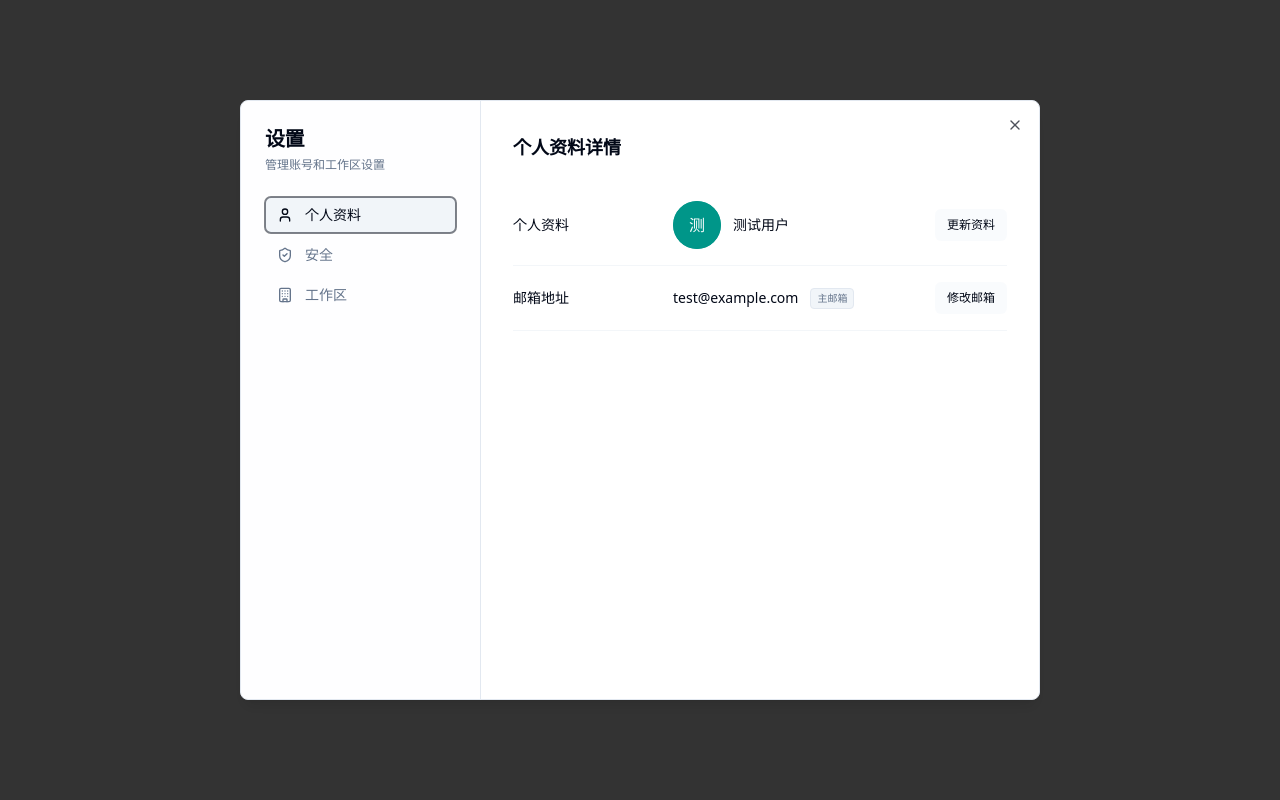
Scenario: SettingsModal › 个人资料 Tab › 点击修改邮箱应该显示邮箱编辑表单
The width and height of the screenshot is (1280, 800).
Step 1. Click the button "修改邮箱" → (971, 298), box [935,282,1007,314]
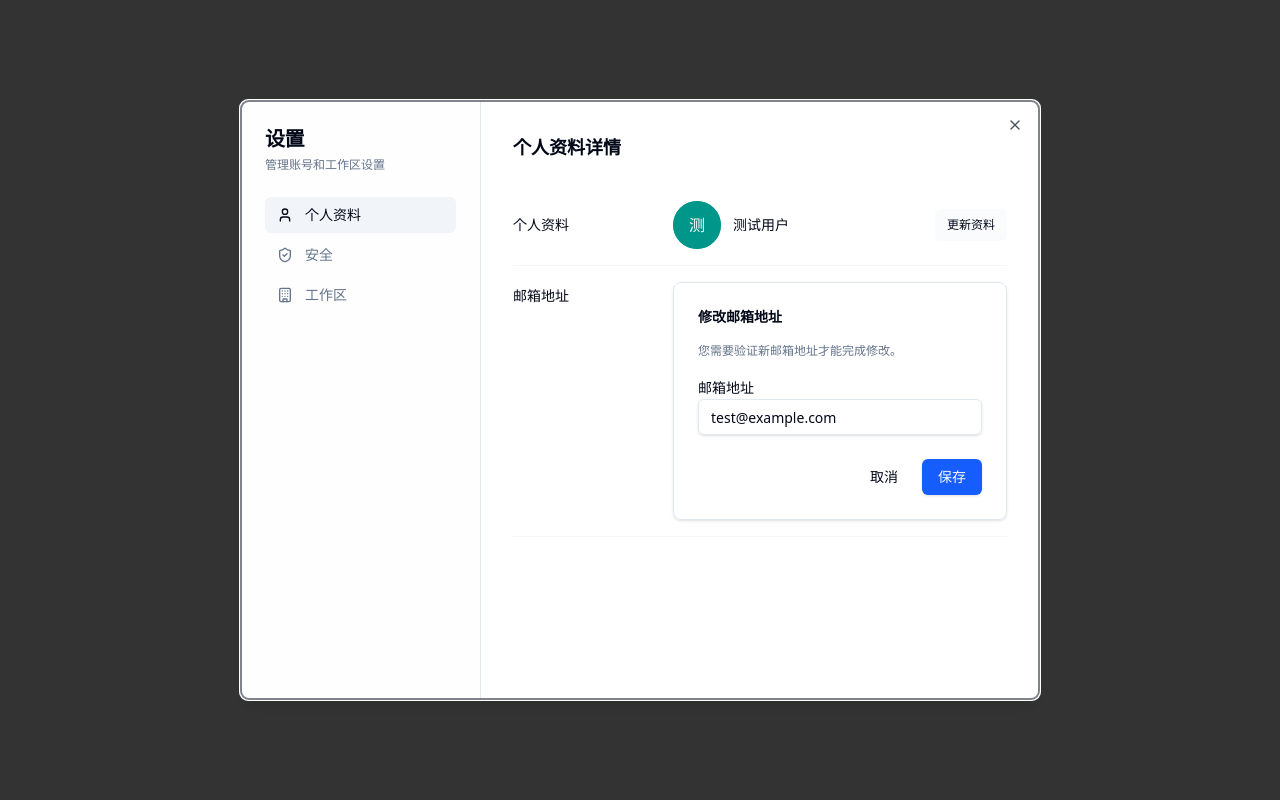
Expected: the heading "修改邮箱地址" is shown, [698,307,782,326]
Expected: the field with placeholder "输入您的新邮箱地址" is shown, [698,399,982,435]
